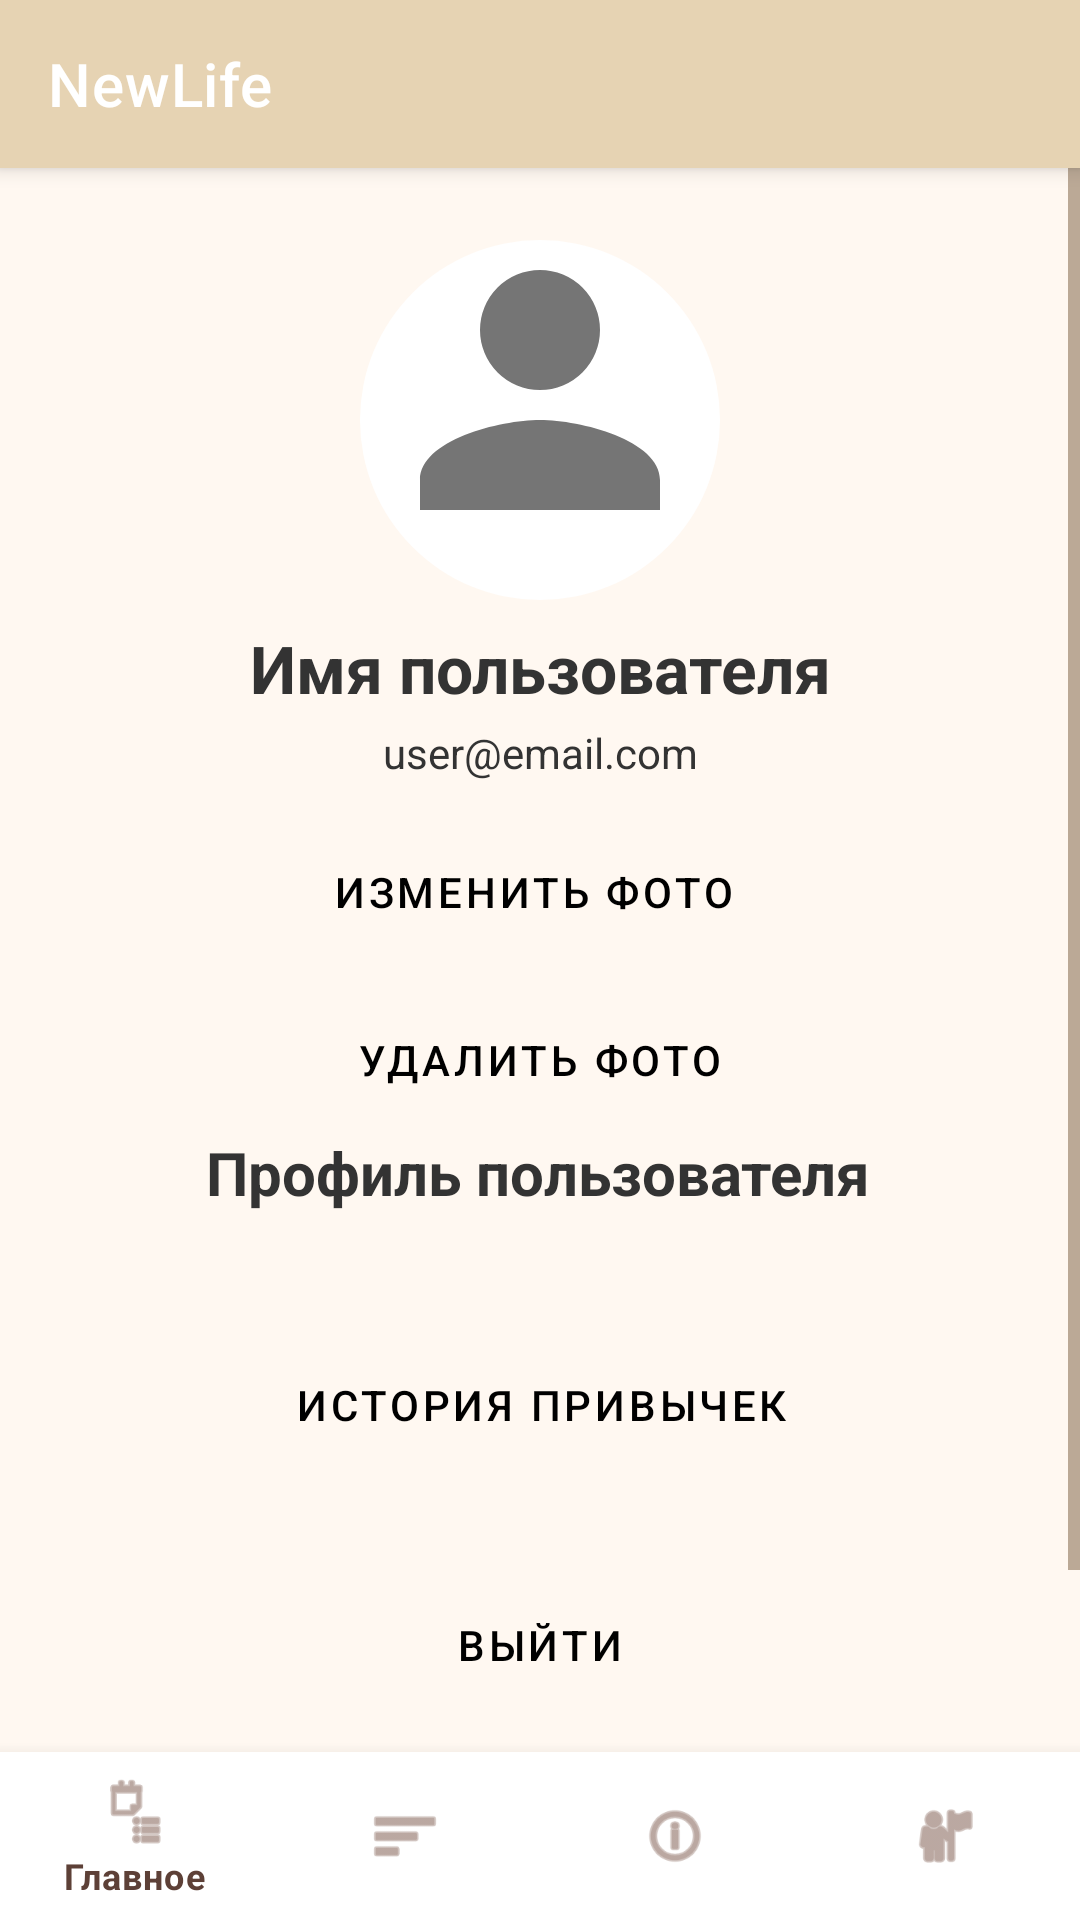

Point at icon controls on the screen. Image size 1080 × 1920, points as (x,y).
Фото профиля: (540,390)
